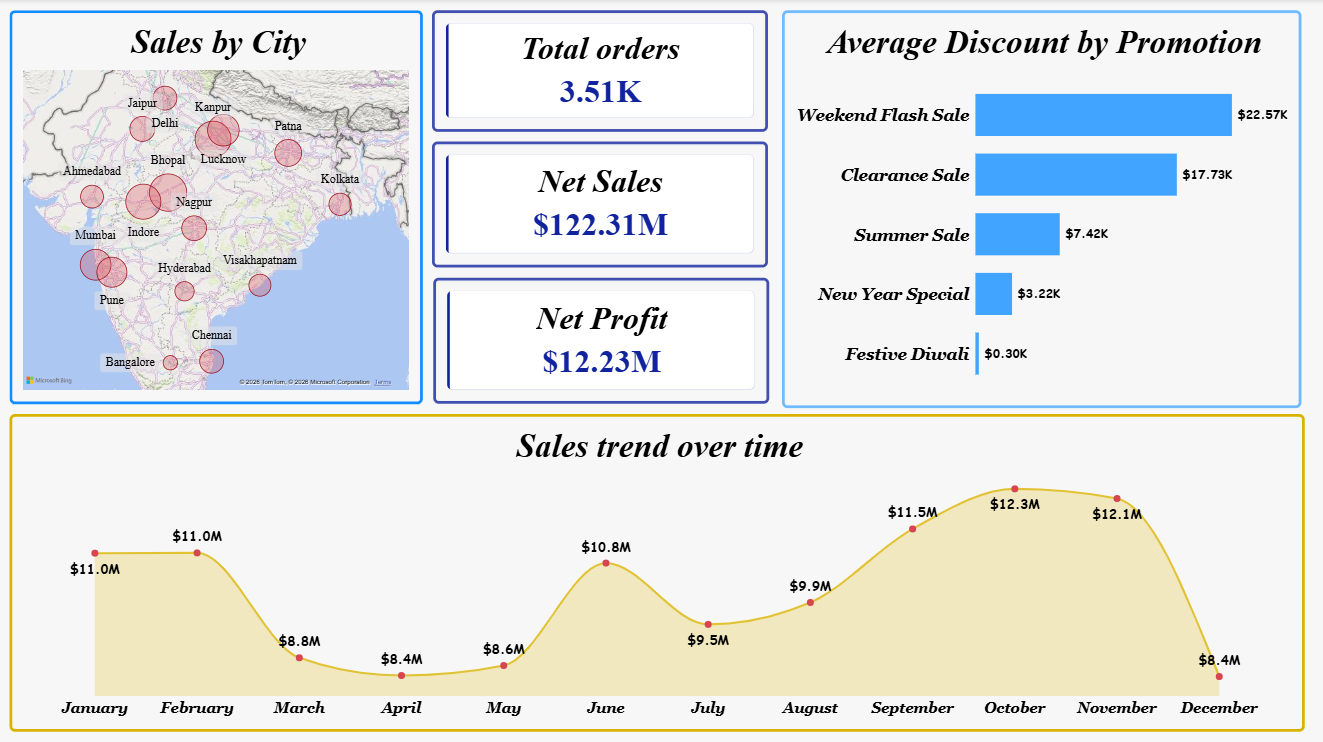

What the dashboard file says about the page in this screenshot:
{"tool":"powerbi","page":{"name":"Sales trend over time","canvas":[1920,1080],"ordinal":1},"visuals":[{"type":"lineChart","title":"Sales trend over time","fields":{"Category":["Fact Sheet.Date (dd/mm/yyyy).Variation.Date Hierarchy.Year","Fact Sheet.Date (dd/mm/yyyy).Variation.Date Hierarchy.Quarter","Fact Sheet.Date (dd/mm/yyyy).Variation.Date Hierarchy.Month","Fact Sheet.Date (dd/mm/yyyy).Variation.Date Hierarchy.Day"],"Y":["Measures Table.Net Sales"]},"box":[18.6,601.4,1875,459.9],"z":0},{"type":"map","title":"Sales by City","fields":{"Category":["Dim Customers.City"],"Size":["Measures Table.Net Sales"]},"box":[18,16,598,570],"z":1000},{"type":"cardVisual","fields":{"Data":["Measures Table.Total orders"]},"box":[630,16,486,176],"z":2000},{"type":"cardVisual","fields":{"Data":["Measures Table.Net Sales"]},"box":[630,206,486,182],"z":3000},{"type":"cardVisual","fields":{"Data":["Measures Table.Simulated profit"]},"box":[632,404,486,182],"z":4000},{"type":"barChart","title":"Average Discount by Promotion","fields":{"Category":["Dim Promotion.Promotion Name"],"Y":["Avg(Fact Sheet.Discount Value)"]},"box":[1136,16,752,576],"z":6000}]}

Visuals, with their boxes in screenshot pixels (x1, y1, x2, y2), scaled from the page's 1920x1080 canvas onto the 1323x742 screenshot:
"Sales trend over time" lineChart: (x1=13, y1=413, x2=1305, y2=729)
"Sales by City" map: (x1=12, y1=11, x2=424, y2=403)
cardVisual - Measures Table.Total orders: (x1=434, y1=11, x2=769, y2=132)
cardVisual - Measures Table.Net Sales: (x1=434, y1=142, x2=769, y2=267)
cardVisual - Measures Table.Simulated profit: (x1=435, y1=278, x2=770, y2=403)
"Average Discount by Promotion" barChart: (x1=783, y1=11, x2=1301, y2=407)
